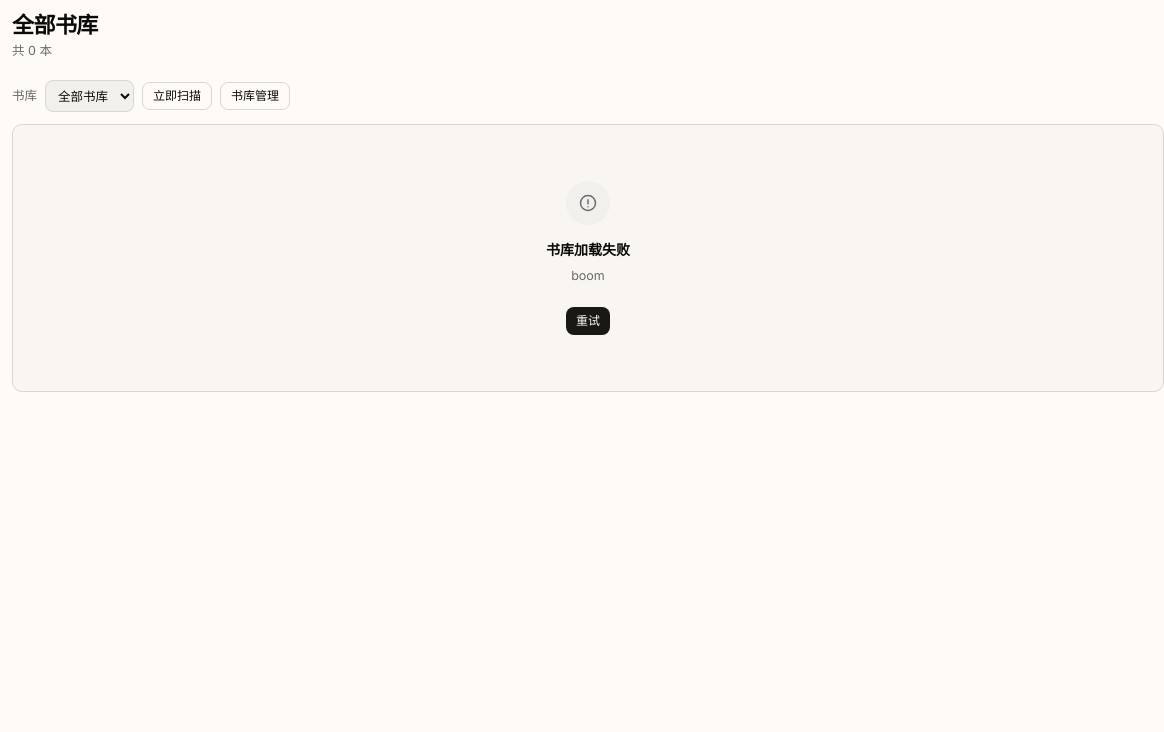
ShelfView · 加载 / 失败 / 空 三态（第 88 期） › 错误态点「重试」→ 重新拉取，成功后就地恢复成书架
Step 1. Click the button "重试" → (588, 321), box x1=566 y1=307 x2=610 y2=335
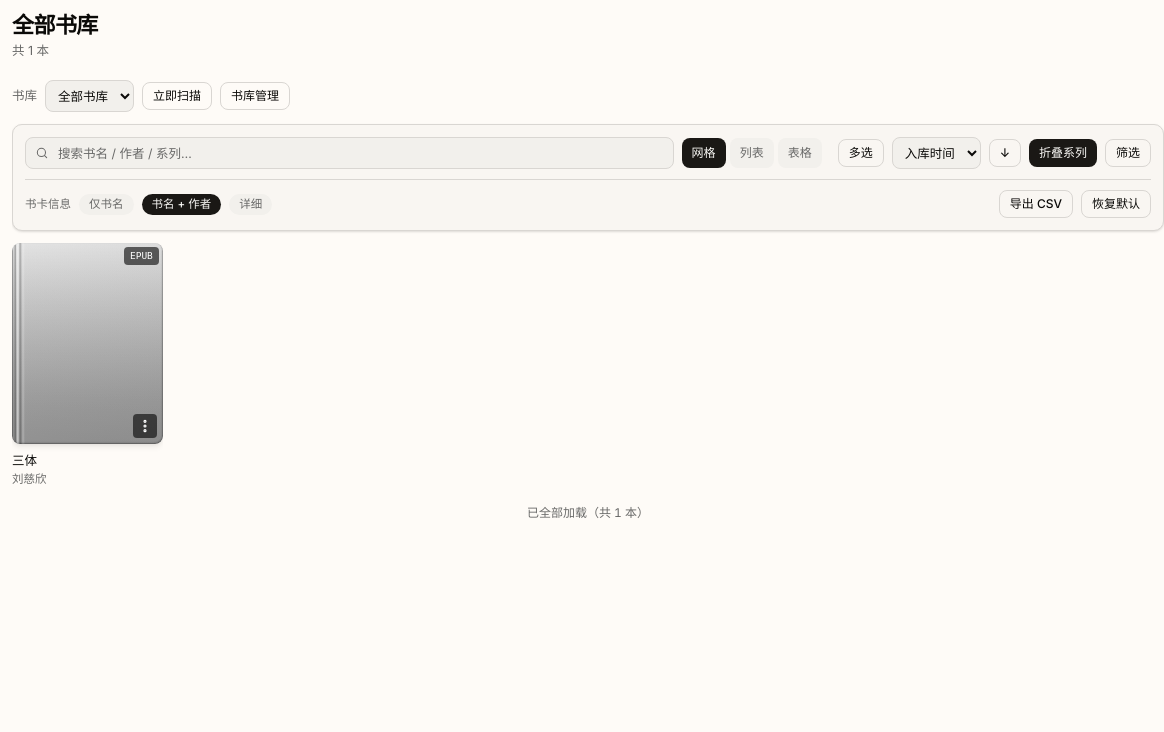
Now the text "书库加载失败" is gone
Now the text "三体" is shown, box x1=12 y1=453 x2=37 y2=468
